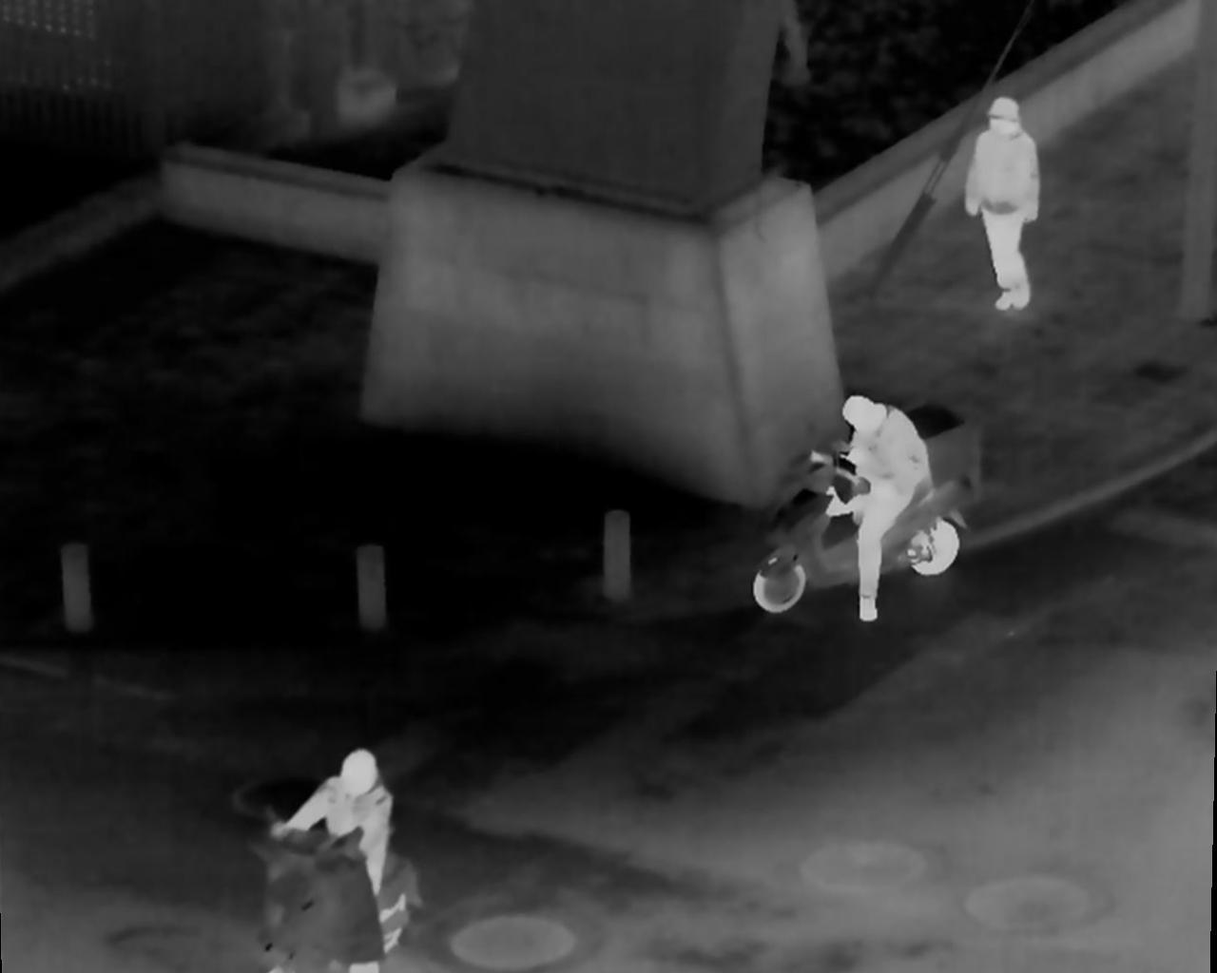person: (812, 402, 939, 626), (288, 748, 409, 934), (958, 92, 1051, 310)
